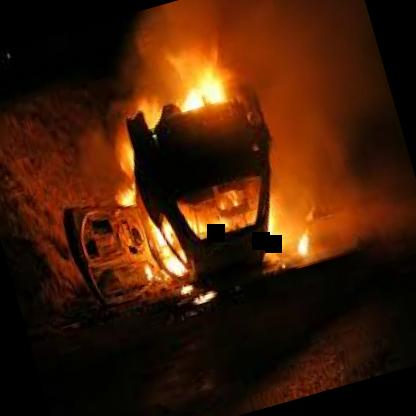fire: (87, 56, 308, 306)
